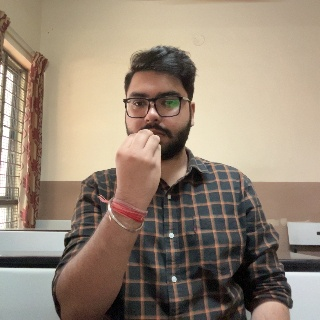Food: (111, 129, 166, 233)
